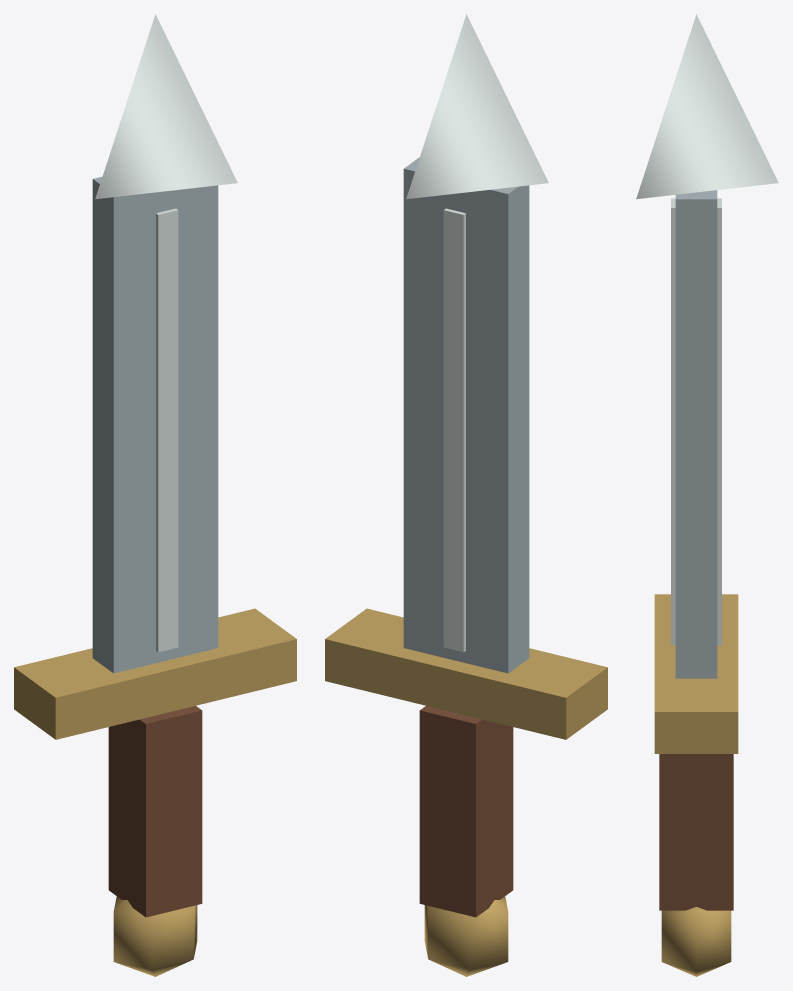
The model's file is fixed-sword-lod2.glb.
The picture shows the model from 3 angles, left to right: view 1: azimuth 30°, elevation 25°; view 2: azimuth 150°, elevation 25°; view 3: azimuth 270°, elevation 25°; orthographic projection.
Parts seen in each view (by area): view 1: piece_whole; view 2: piece_whole; view 3: piece_whole.
Boxes of the visible parts, x1=… form: piece_whole: x1=14, y1=14, x2=296, y2=976; piece_whole: x1=325, y1=14, x2=607, y2=976; piece_whole: x1=636, y1=14, x2=778, y2=976.
Bounding box in the file's own units: 0.3 × 1.14 × 0.1539.
